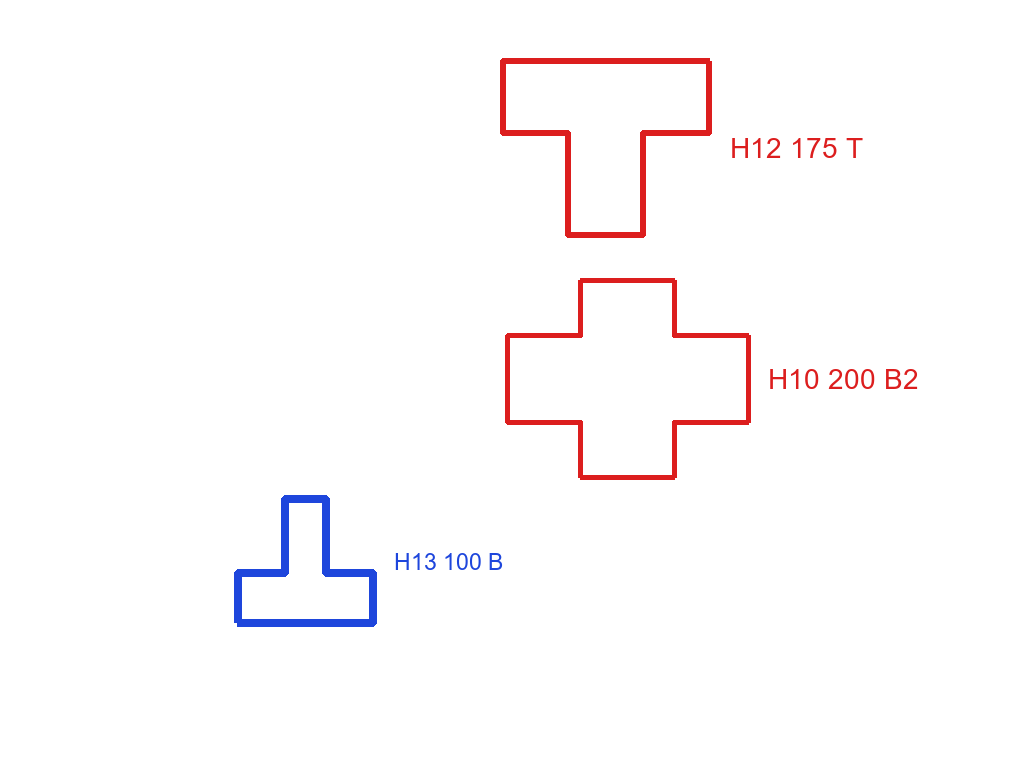shape: (503, 276, 753, 482), (497, 56, 715, 240), (231, 494, 380, 628)
text: (766, 367, 921, 391), (728, 136, 865, 160), (392, 551, 505, 572)
